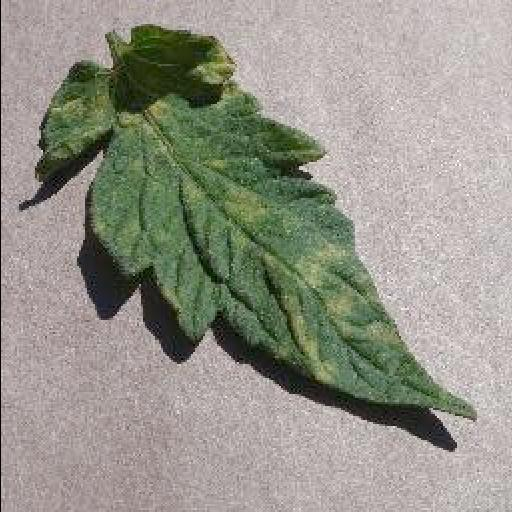disease_tomato: (40, 26, 478, 423)
